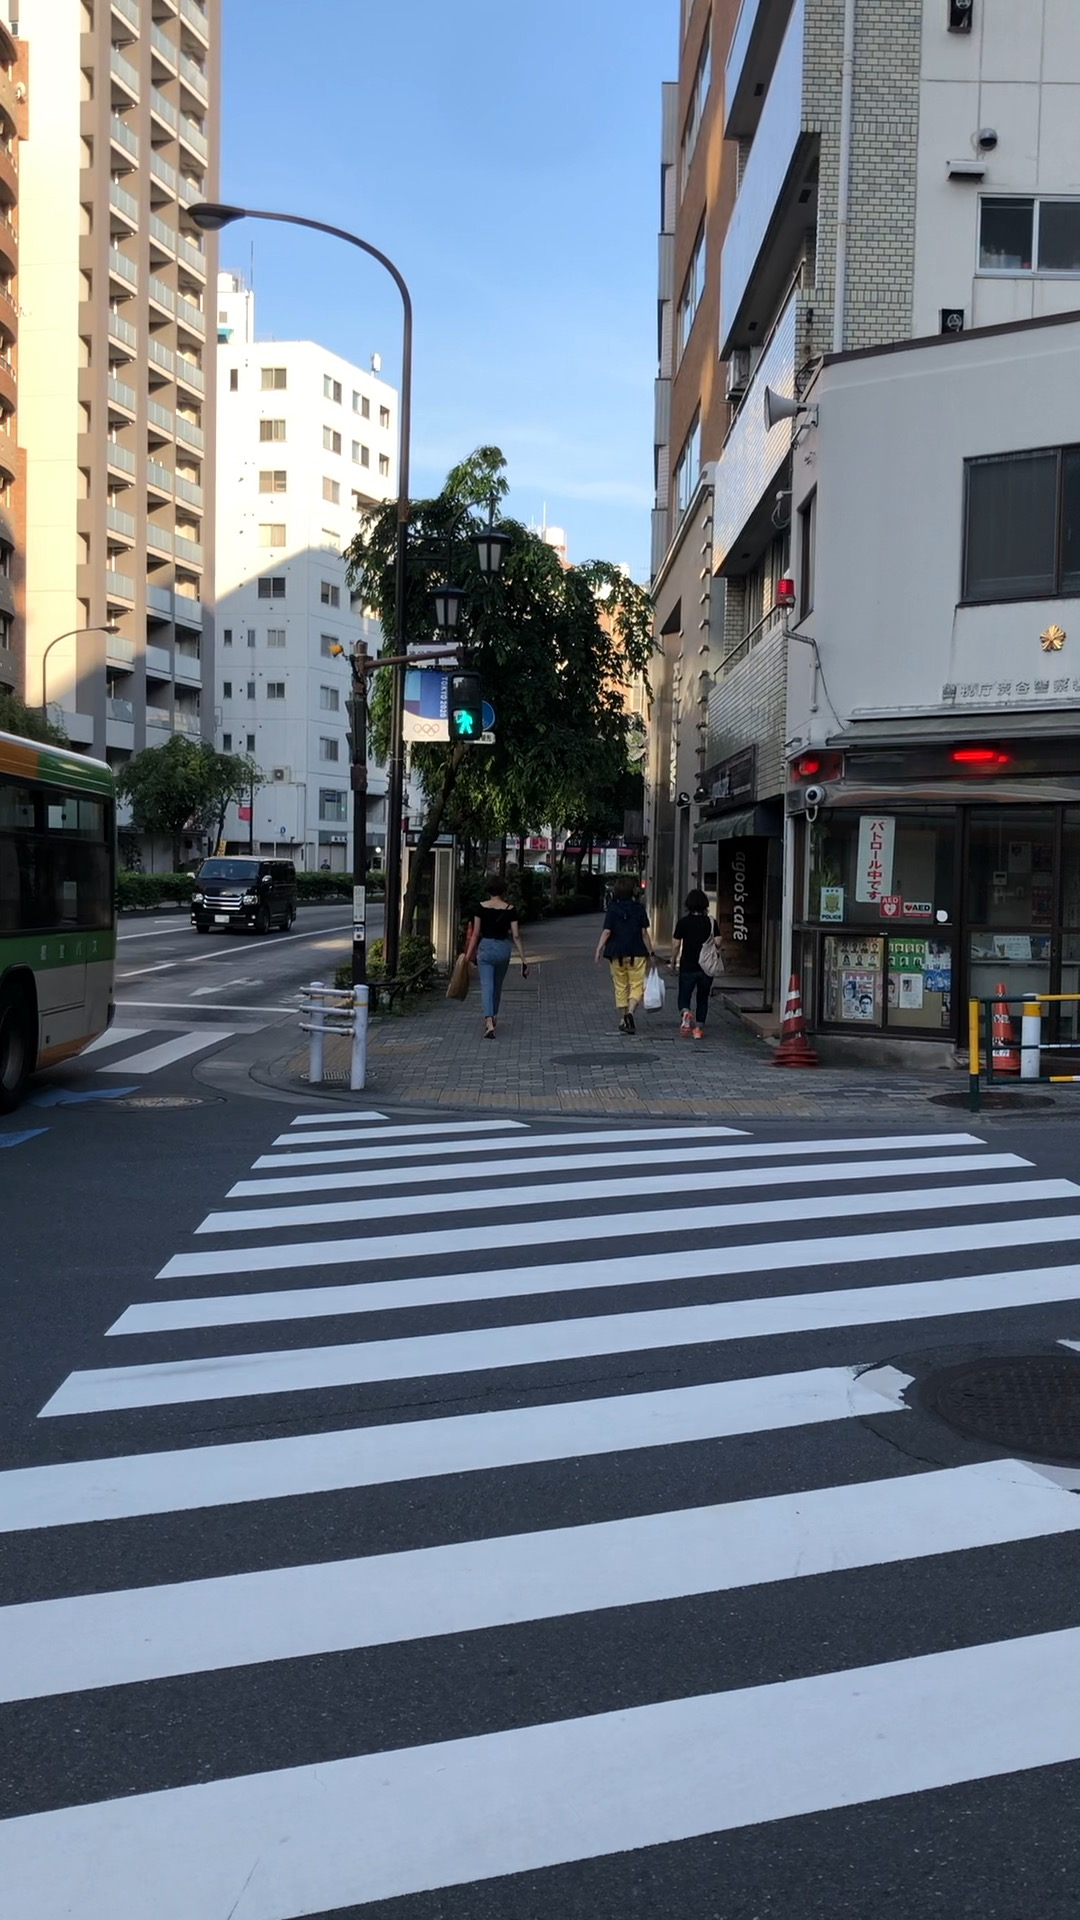green: (446, 669, 483, 741)
